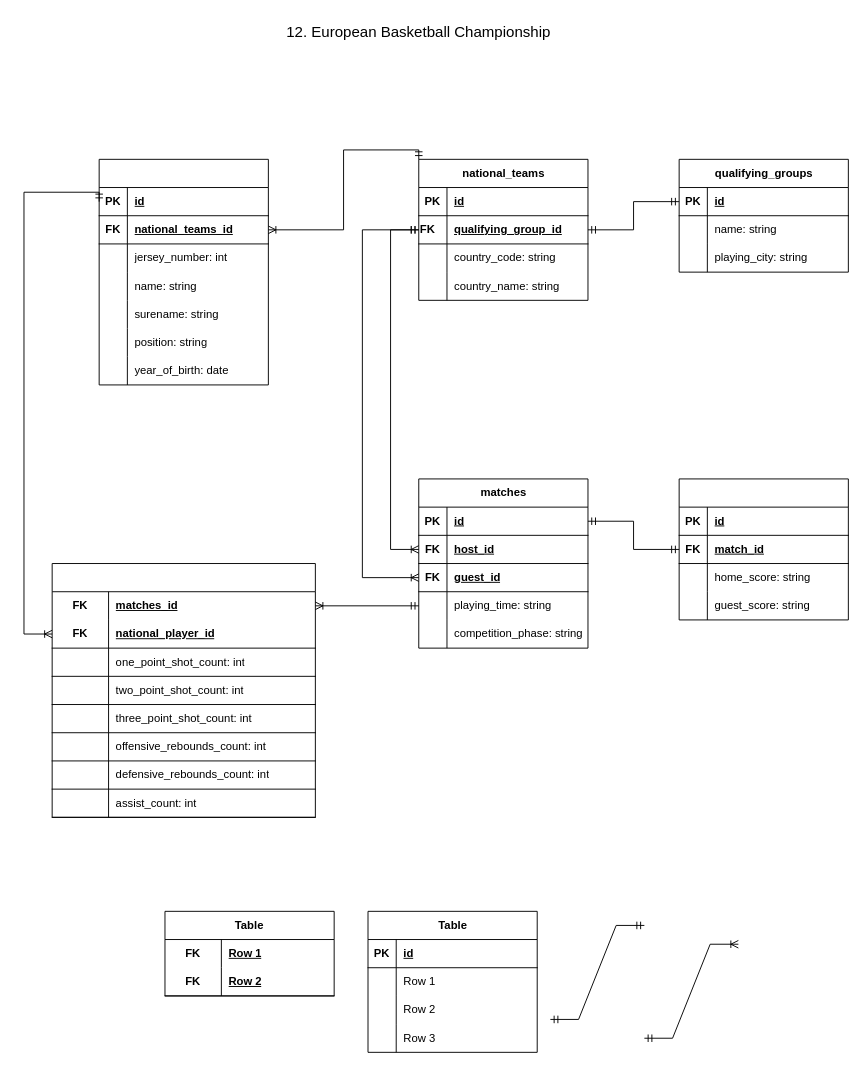
This 865x1069 diagram has some shape labels left out. The shapes that lost their labels are listed below. From the top down, each one's box as (x1, y1, x2, y2) in pixels, then its label:
(98, 158, 268, 385): national_players
(678, 478, 848, 620): match_stats
(51, 563, 315, 817): player_stats
